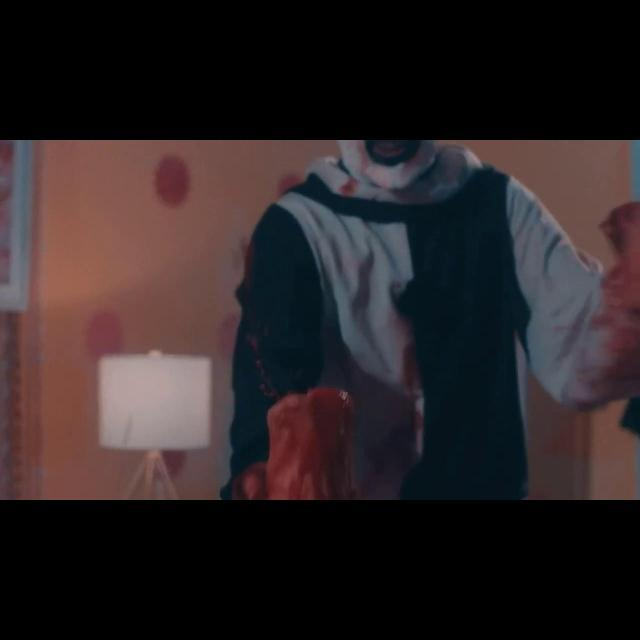blood: (232, 190, 422, 500), (510, 178, 640, 409), (308, 140, 482, 207), (232, 244, 274, 392), (227, 235, 242, 268)
